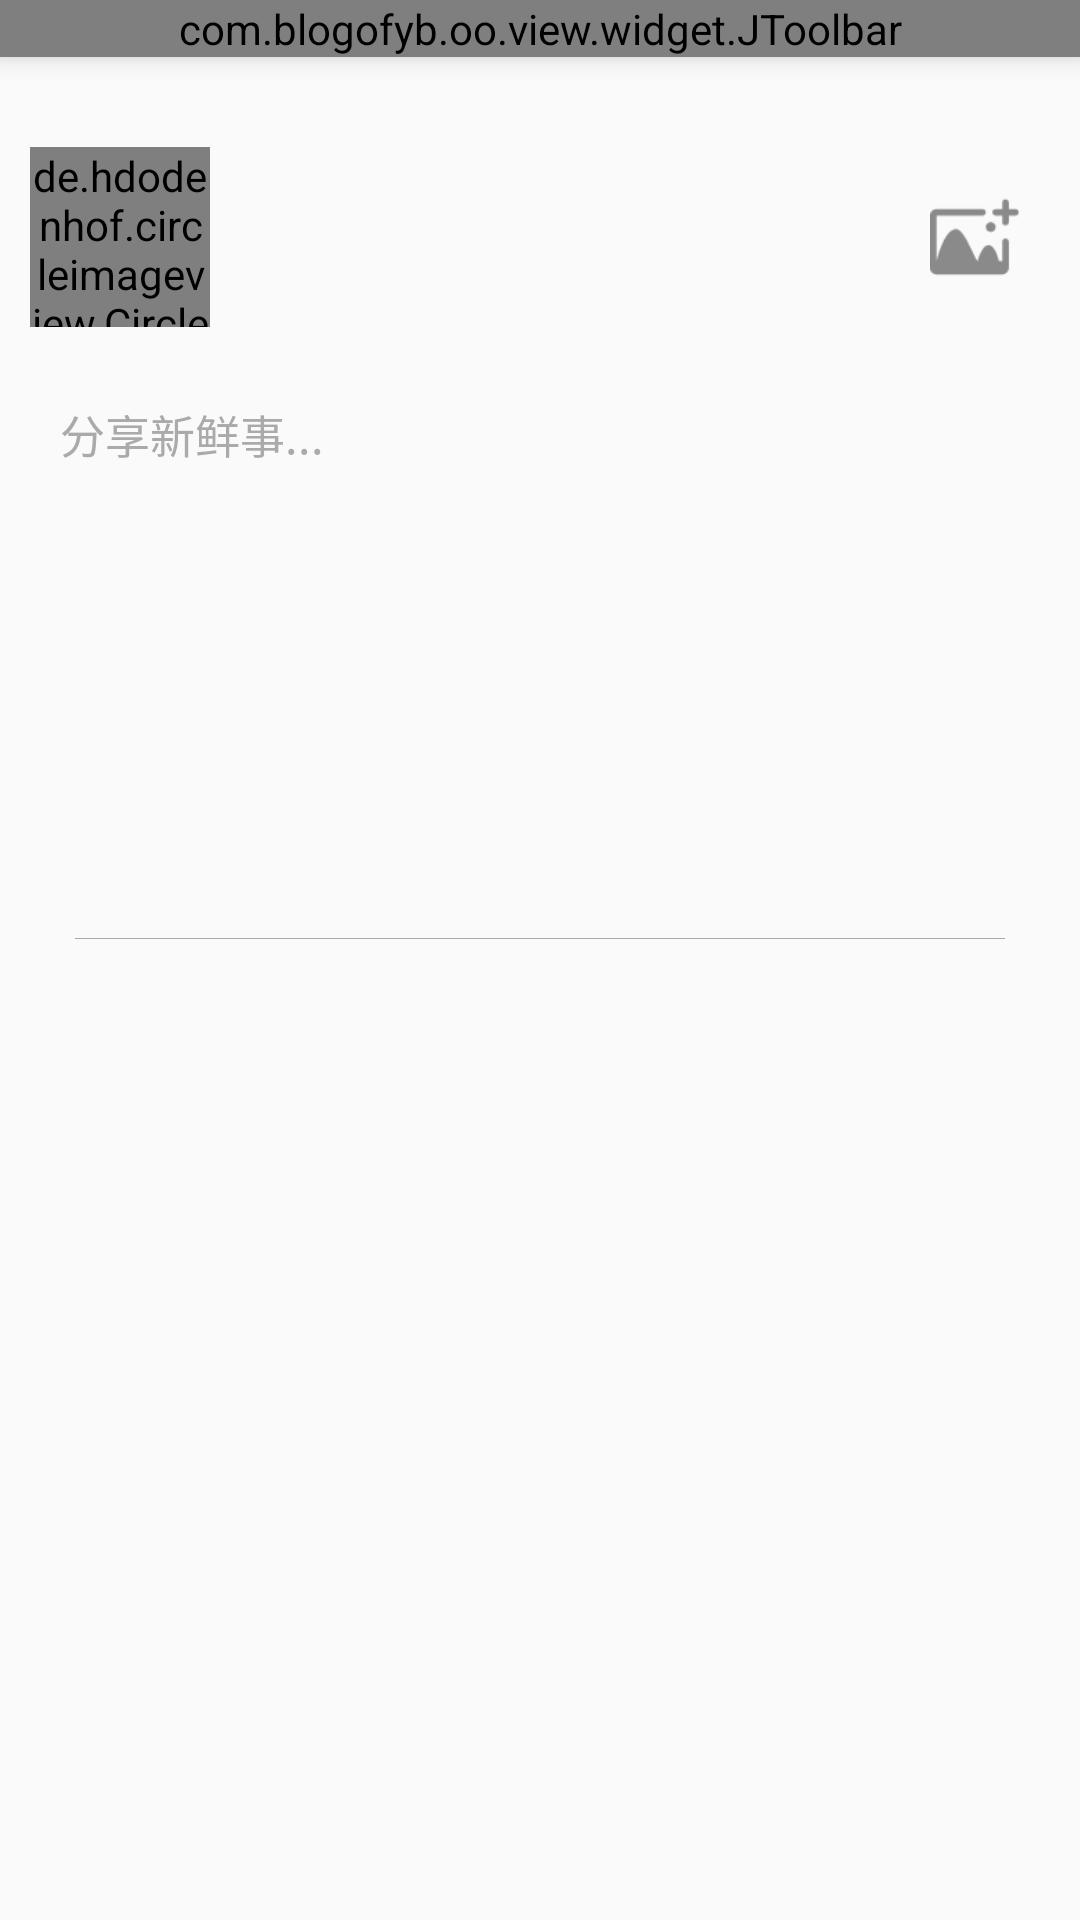

Point at icon controls on the screen. Image size 1080×1920, points as point (x, y).
add pic: point (974, 237)
